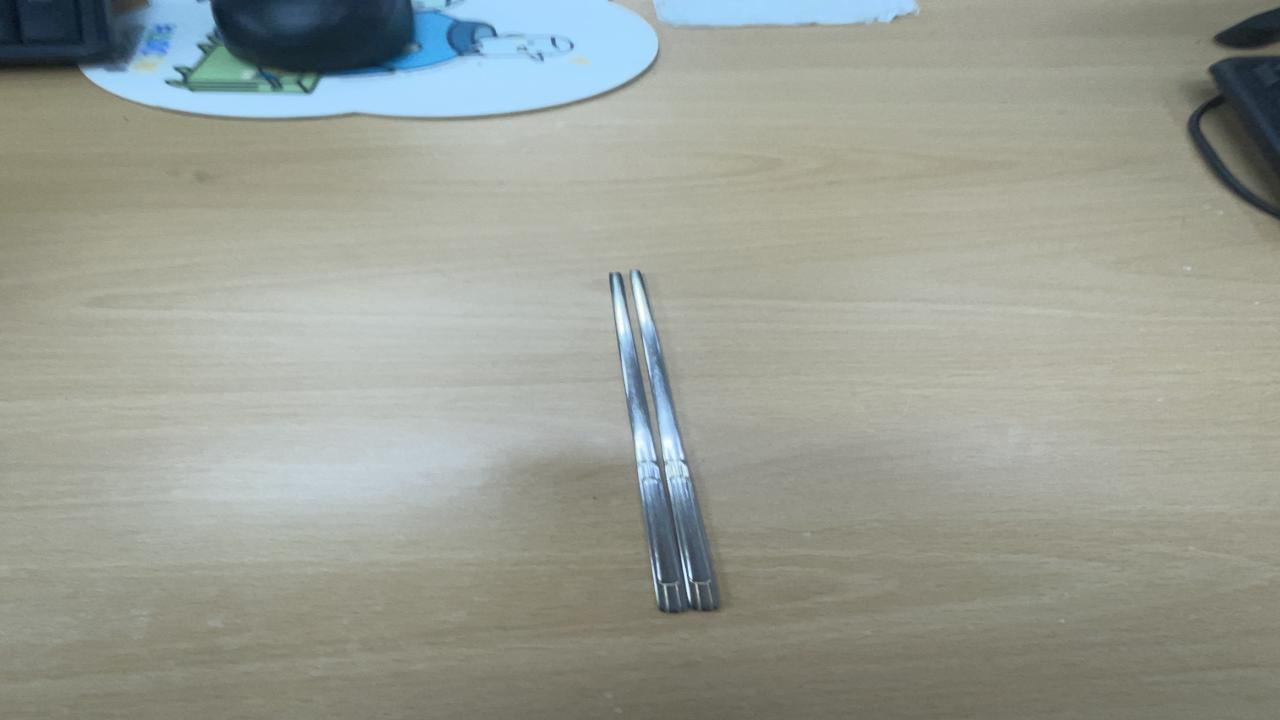chopstick: (605, 273, 724, 612)
